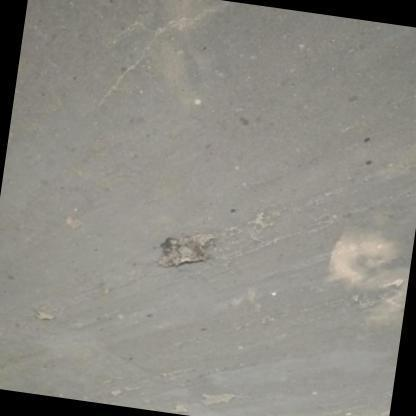pothole: (156, 232, 216, 267)
